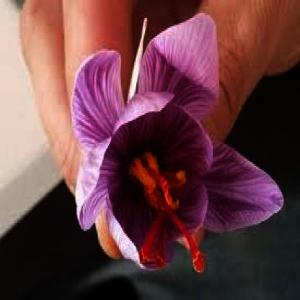Saffron: (75, 14, 288, 264)
